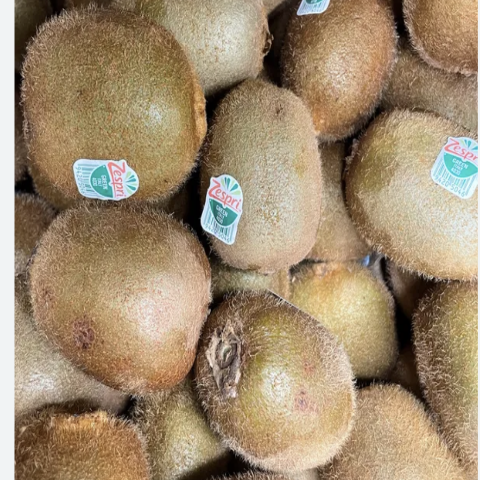kiwi: (17, 6, 222, 225), (26, 182, 230, 396), (161, 297, 383, 473), (194, 74, 342, 294), (345, 86, 480, 287)
